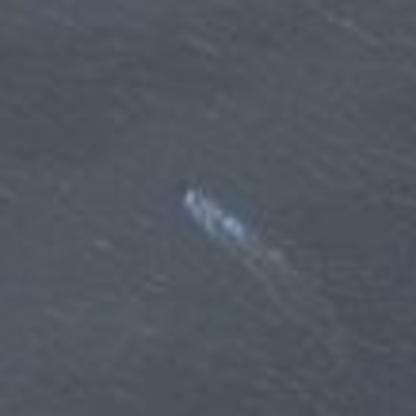ship: (170, 176, 254, 249)
